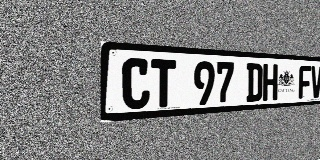7: (215, 62, 234, 104)
9: (194, 61, 215, 105)
C: (122, 58, 150, 110)
D: (246, 63, 263, 102)
F: (299, 65, 311, 99)
H: (263, 64, 278, 101)
T: (151, 59, 176, 108)
V: (311, 66, 320, 98)
